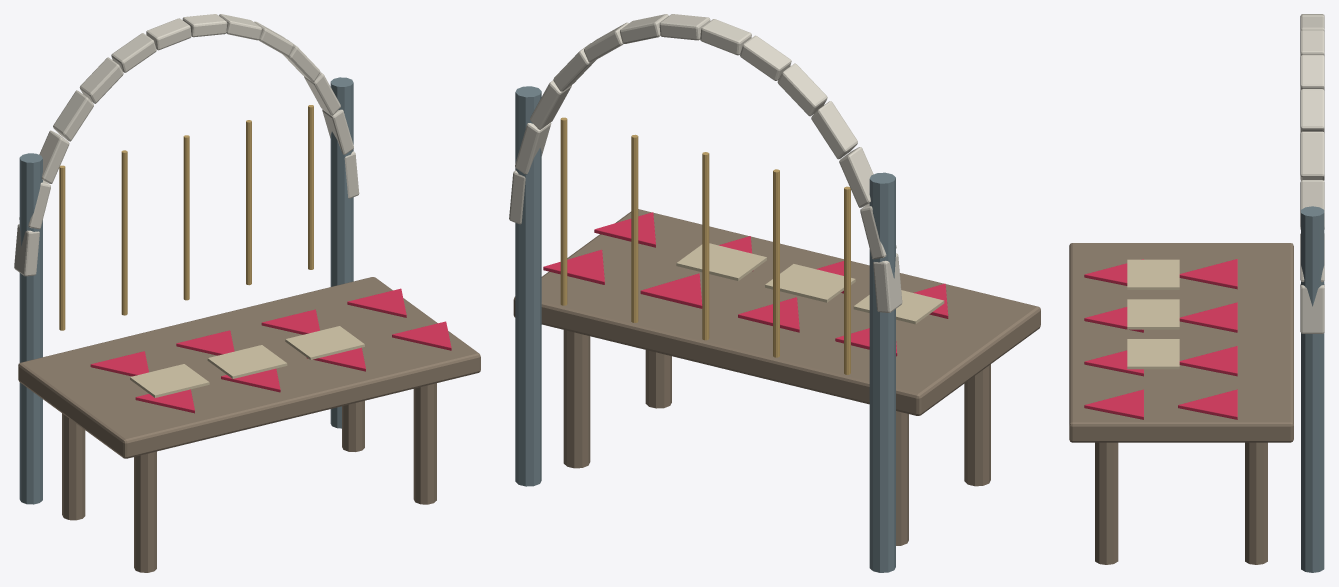
The model's file is a6_scriptorium.glb.
3 views of the same model, side by side, from view 1: azimuth 30°, elevation 25°; view 2: azimuth 150°, elevation 25°; view 3: azimuth 270°, elevation 25° (orthographic). The views are drawn at different scales.
Parts seen in each view (by area): view 1: Body.081; view 2: Body.081; view 3: Body.081.
Part boxes in pixels (bbox=[...]): Body.081: bbox=[14, 14, 480, 572]; Body.081: bbox=[509, 14, 1040, 572]; Body.081: bbox=[1069, 14, 1324, 572].
Size of the model in its own units: 2.3 by 2.71 by 1.37.
